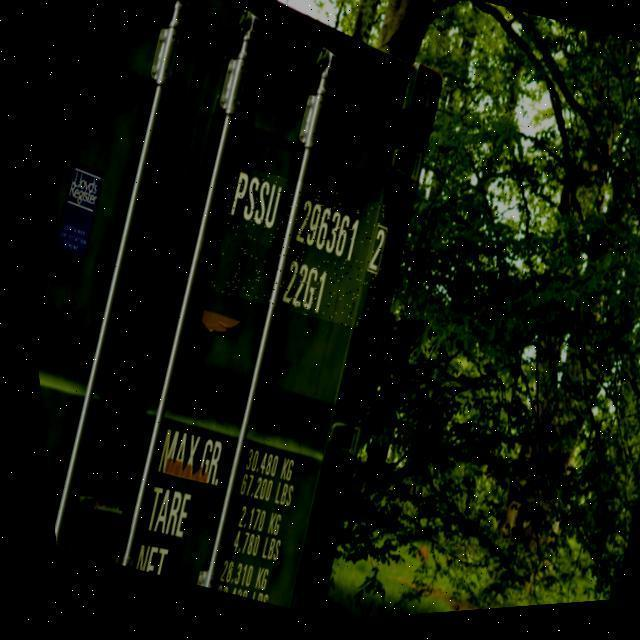container_number_h: (191, 159, 400, 345)
